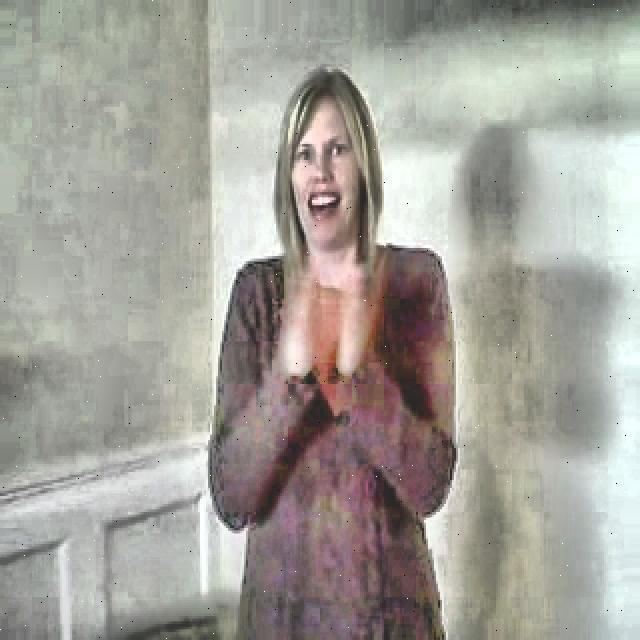F: (182, 55, 466, 628)
